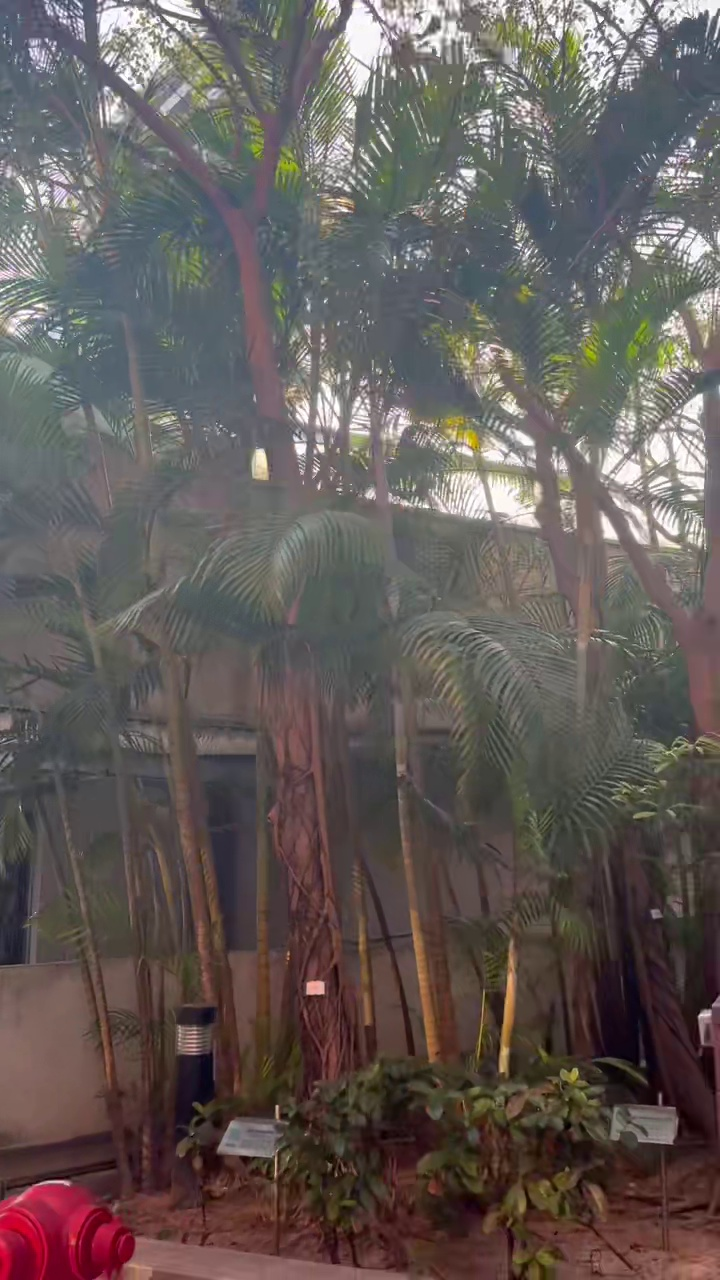Ficus benjamina: (28, 0, 356, 1084)
